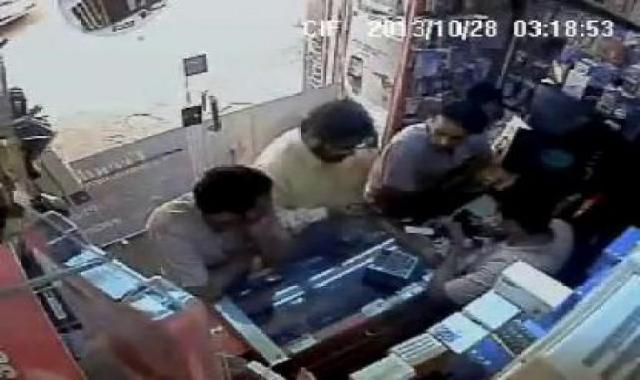no_hairnet: (303, 99, 389, 161), (189, 164, 281, 221), (422, 100, 494, 150)
